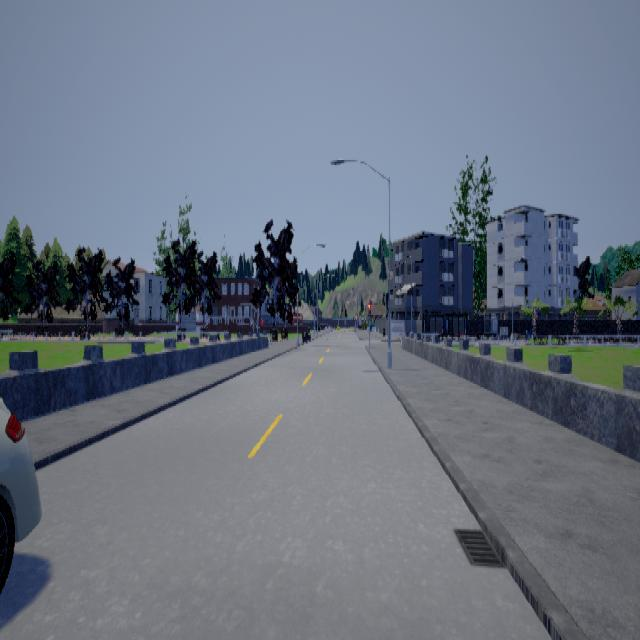vehicle: (0, 396, 41, 593)
